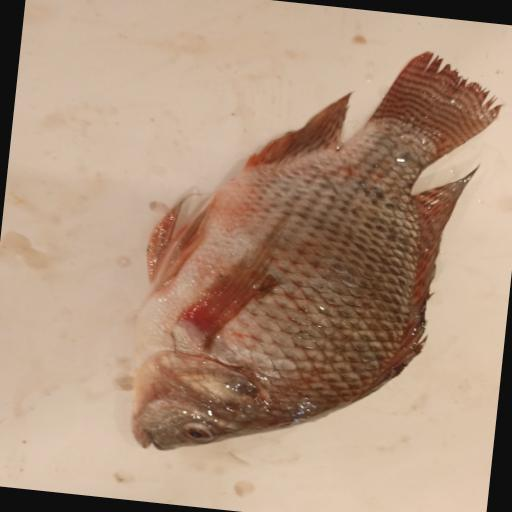Tilapia: (124, 24, 510, 484)
